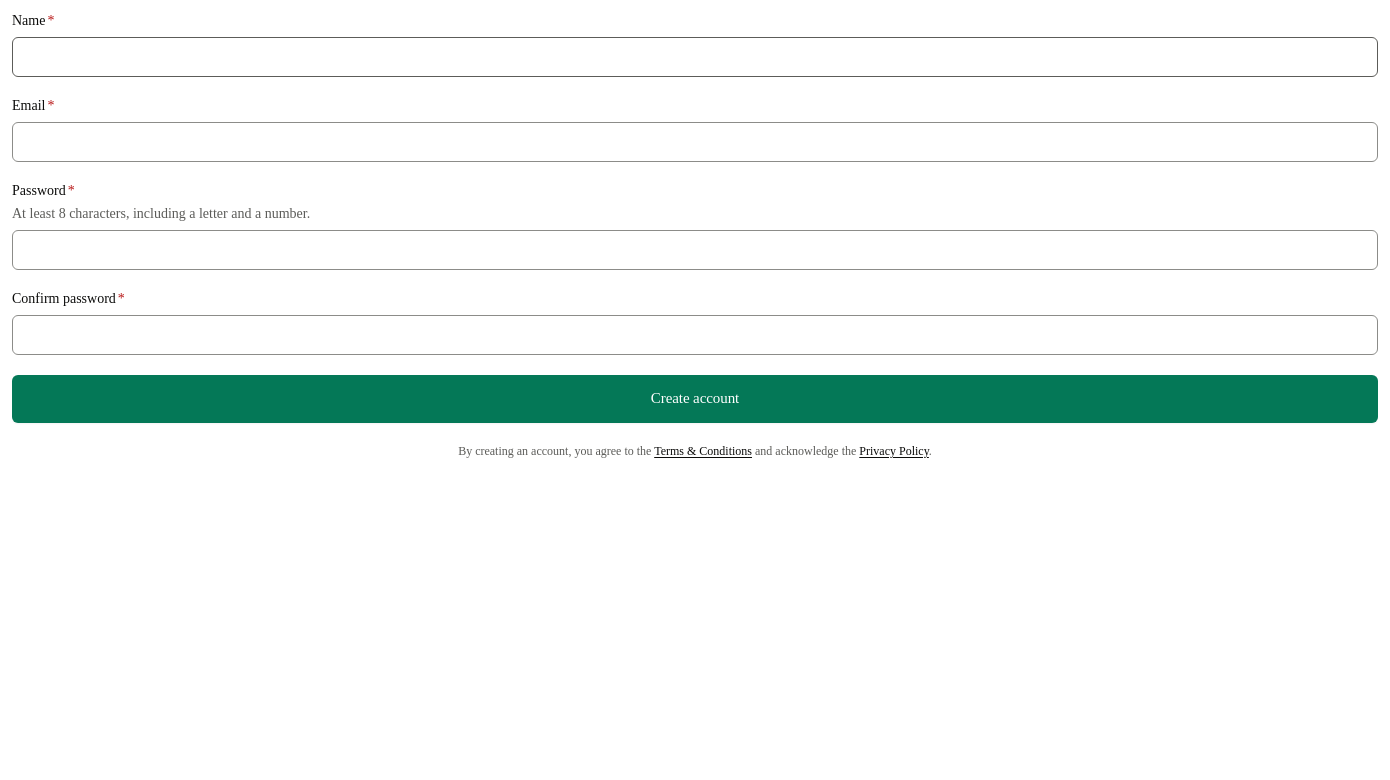
Test: SignupForm › offers a way forward for duplicate accounts
Type "Ada Lovelace" into the field labelled "Name". click: (695,57)
box: [12,37,1378,77]
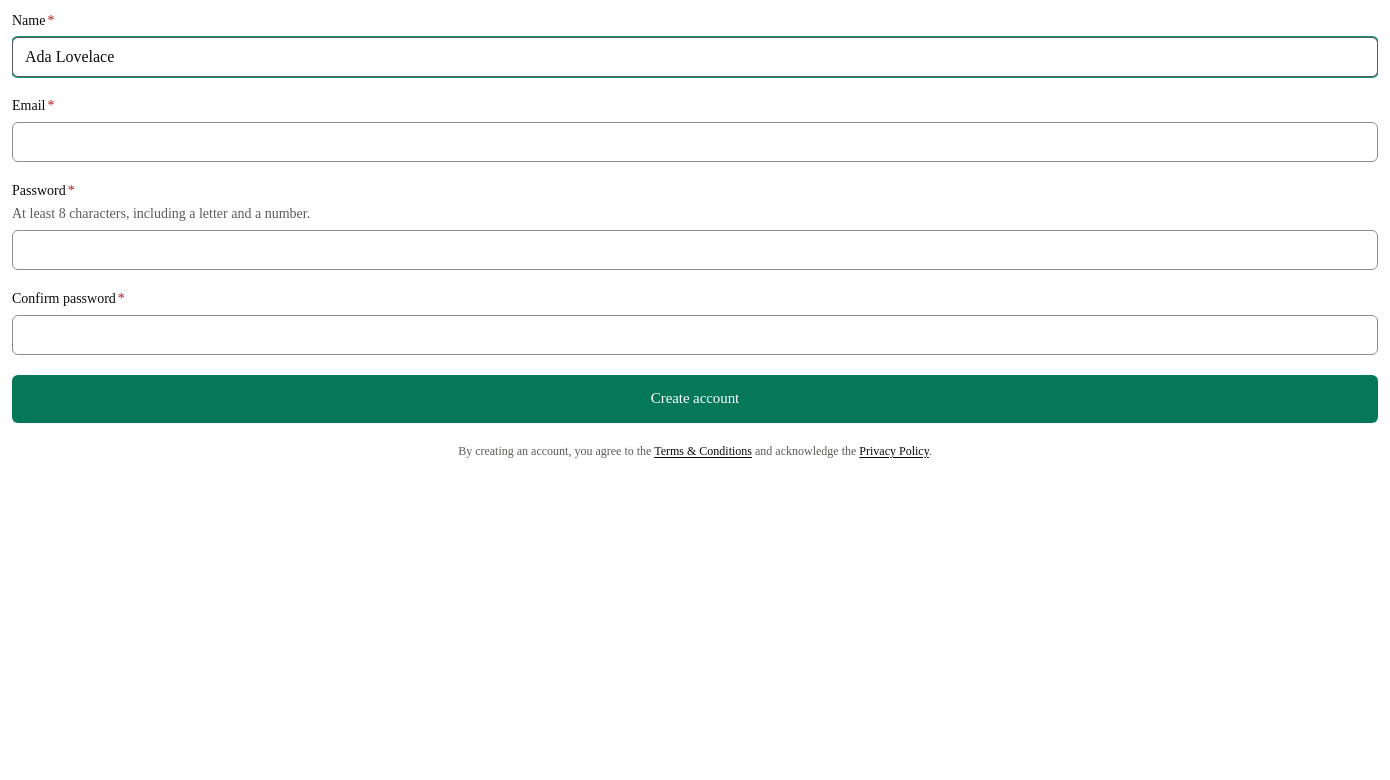
Type "ada@example.com" into the field labelled "Email". click: (695,142)
box: [12,122,1378,162]
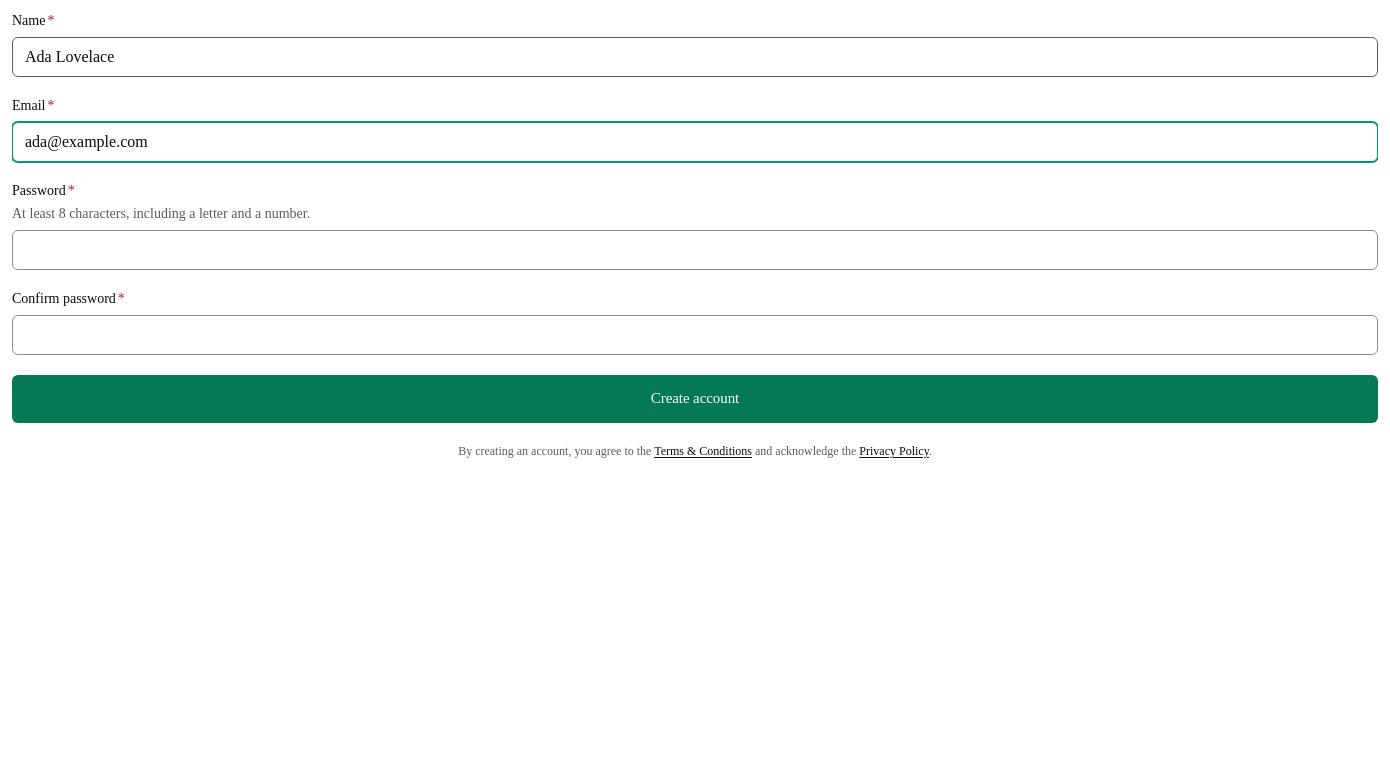
Type "engine-1843" into the password field labelled "Password *". click: (695,250)
box: [12,230,1378,270]
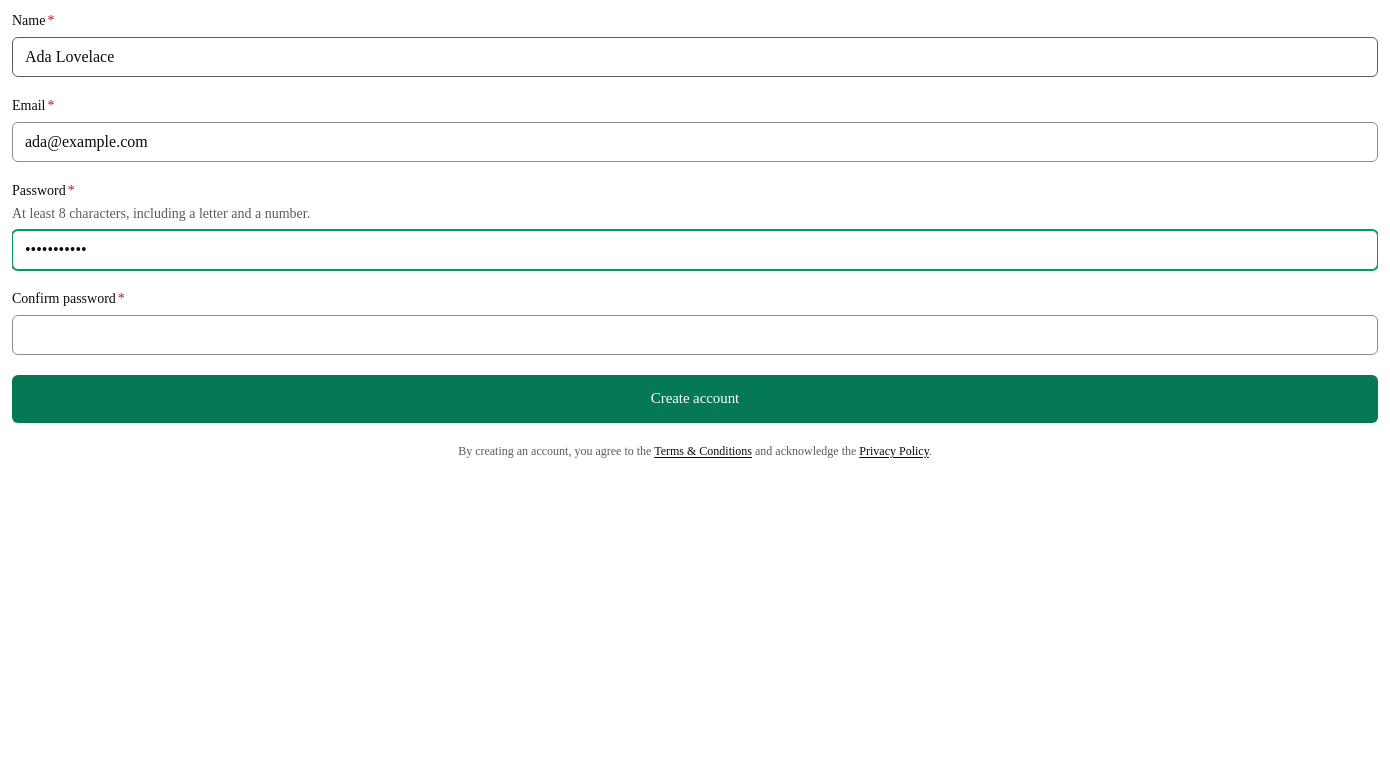
Type "engine-1843" into the password field labelled "Confirm password *". click: (695,335)
box: [12,315,1378,355]
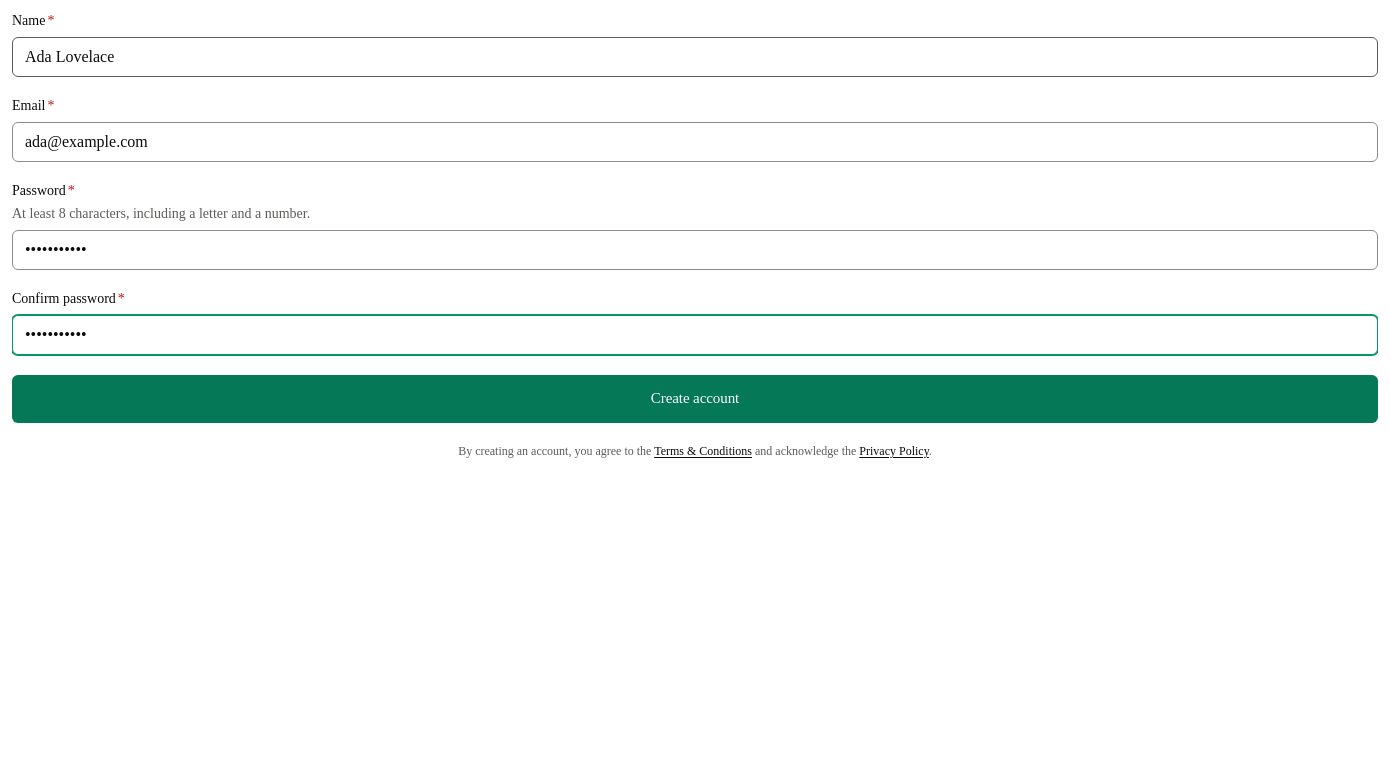
Click the button "Create account". click: (695,399)
box: [12,375,1378,423]
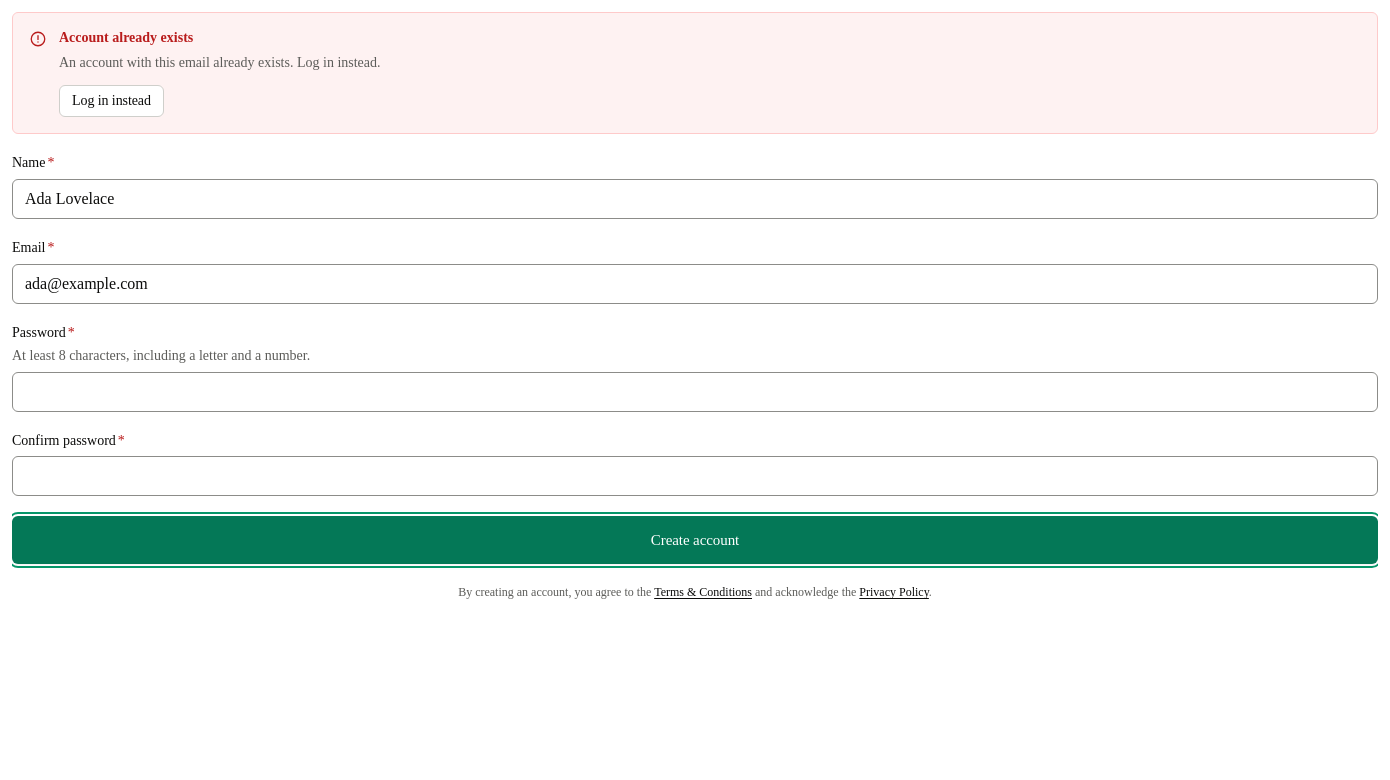
expect the message shows "Account already exists": met, box [59,30,193,45]
